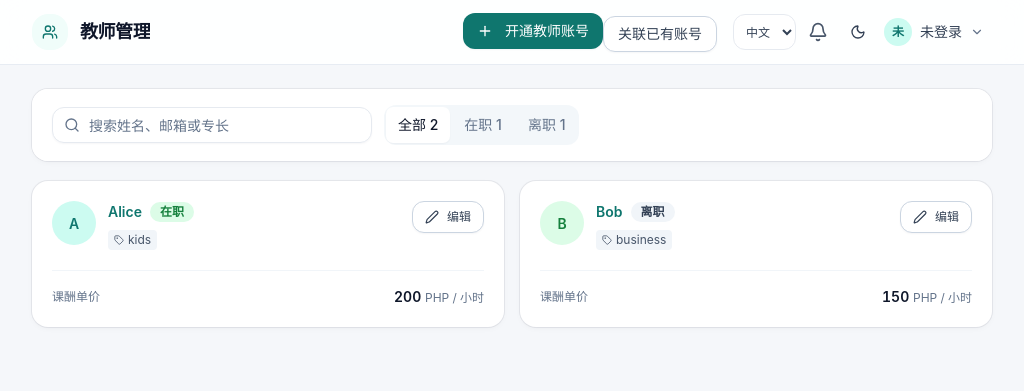
教师列表可按专长搜索，并与在职筛选组合使用
Expected: the link "Alice" is shown, [108,201,142,222]
Type "business" into the field named "搜索教师" at (212, 125), box [52,107,372,143]
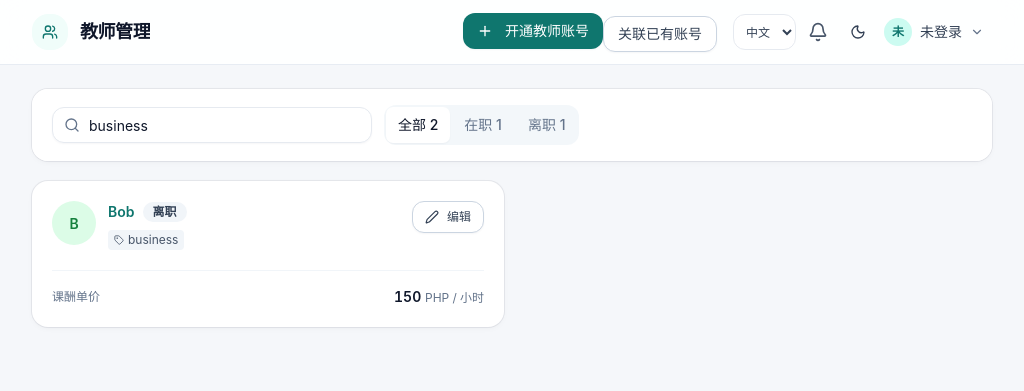
Expected: the link "Bob" is shown, [108,201,134,222]
Result: the link "Alice" is gone
Click the button "在职 1" at (483, 125), box [452,107,514,143]
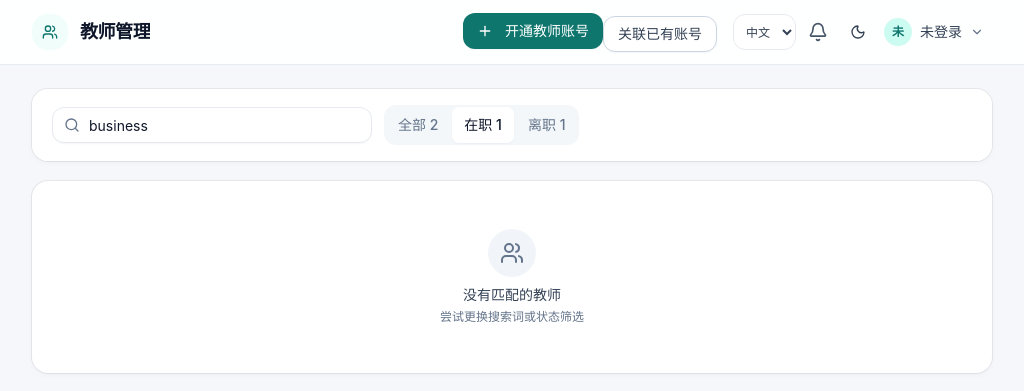
Result: the text "没有匹配的教师" is shown at [463,286,561,303]
Result: the link "Bob" is gone
